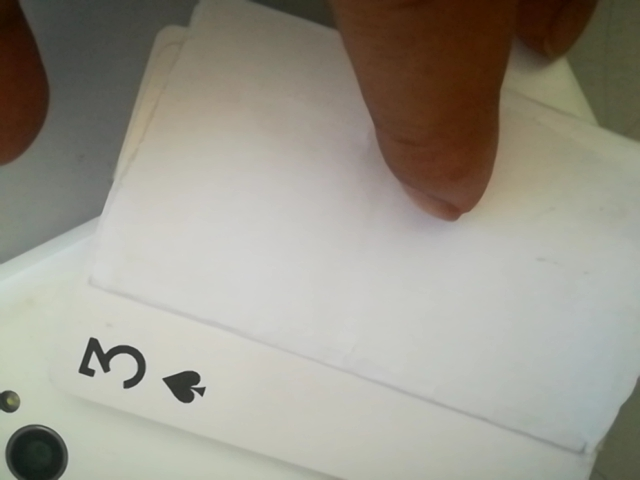ht 3: (64, 323, 219, 420)
